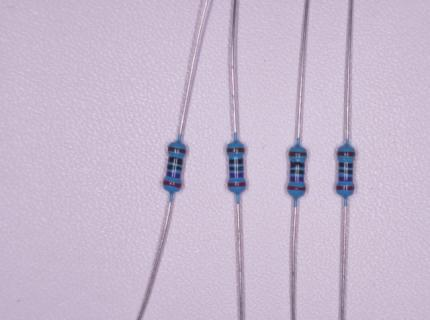Black band: (168, 157, 184, 165), (168, 164, 182, 171), (338, 162, 353, 168), (339, 169, 353, 175), (290, 161, 304, 167), (228, 159, 244, 164), (229, 167, 244, 171)
Brown band: (168, 146, 187, 154), (226, 147, 245, 153), (337, 150, 356, 156), (289, 151, 307, 156)
Red band: (162, 180, 182, 188), (336, 185, 355, 190), (287, 186, 306, 191), (227, 182, 246, 187)
Violet band: (166, 171, 181, 179), (290, 176, 304, 182), (339, 176, 353, 181), (230, 173, 243, 178)
